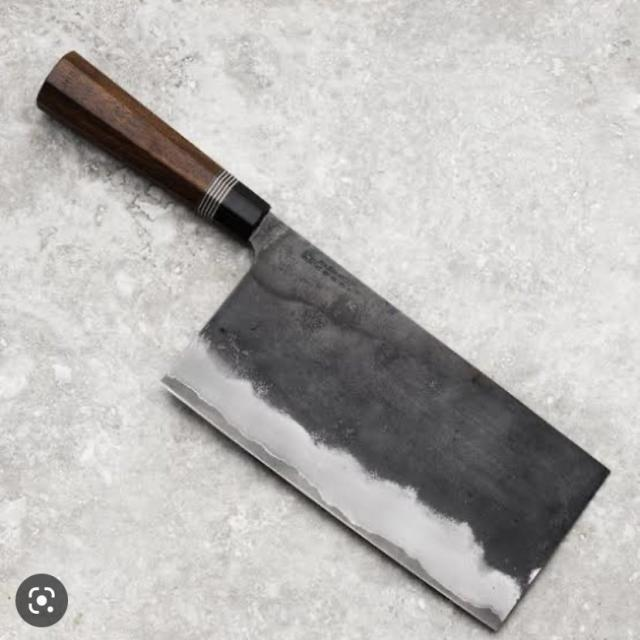Knife: (72, 42, 610, 640)
